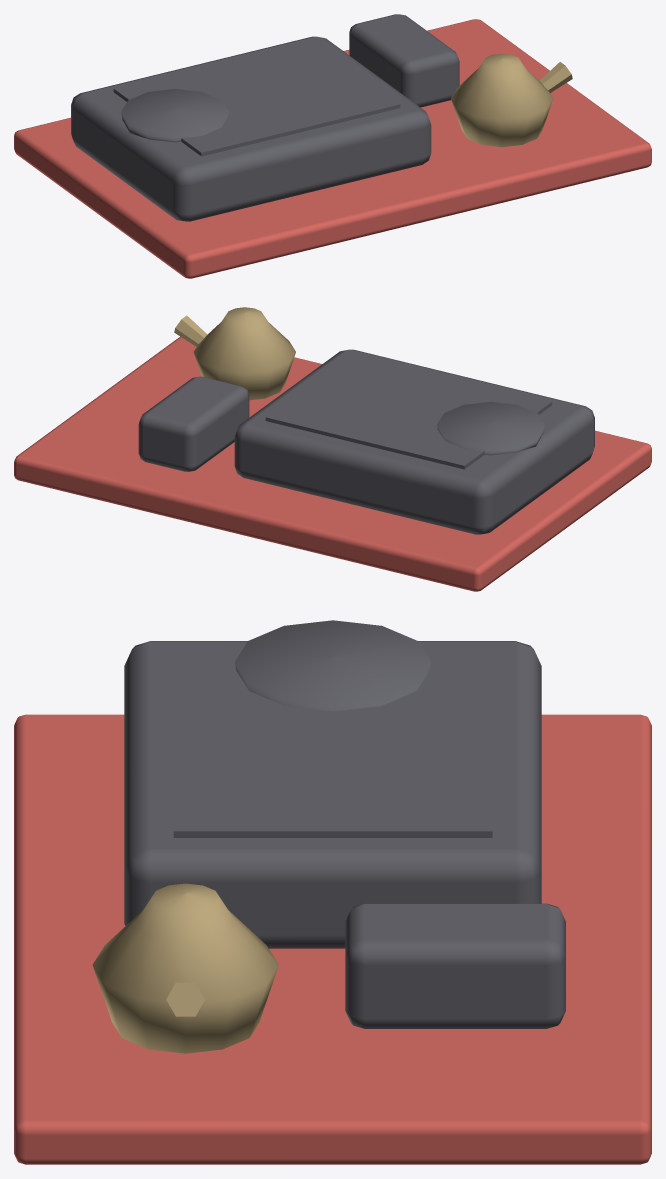
The model's file is inkstone.glb.
3 views of the same model, one above another, from view 1: azimuth 30°, elevation 25°; view 2: azimuth 150°, elevation 25°; view 3: azimuth 270°, elevation 25° (orthographic). The views are drawn at different scales.
Parts seen in each view (by area): view 1: inkstone-and-water-dropper; view 2: inkstone-and-water-dropper; view 3: inkstone-and-water-dropper.
Boxes of the visible parts, x1,y1,x2,y2 form: inkstone-and-water-dropper: (14,14,651,278); inkstone-and-water-dropper: (14,307,651,591); inkstone-and-water-dropper: (14,620,651,1164).
Bounding box in the file's own units: 0.4 × 0.082 × 0.26.
